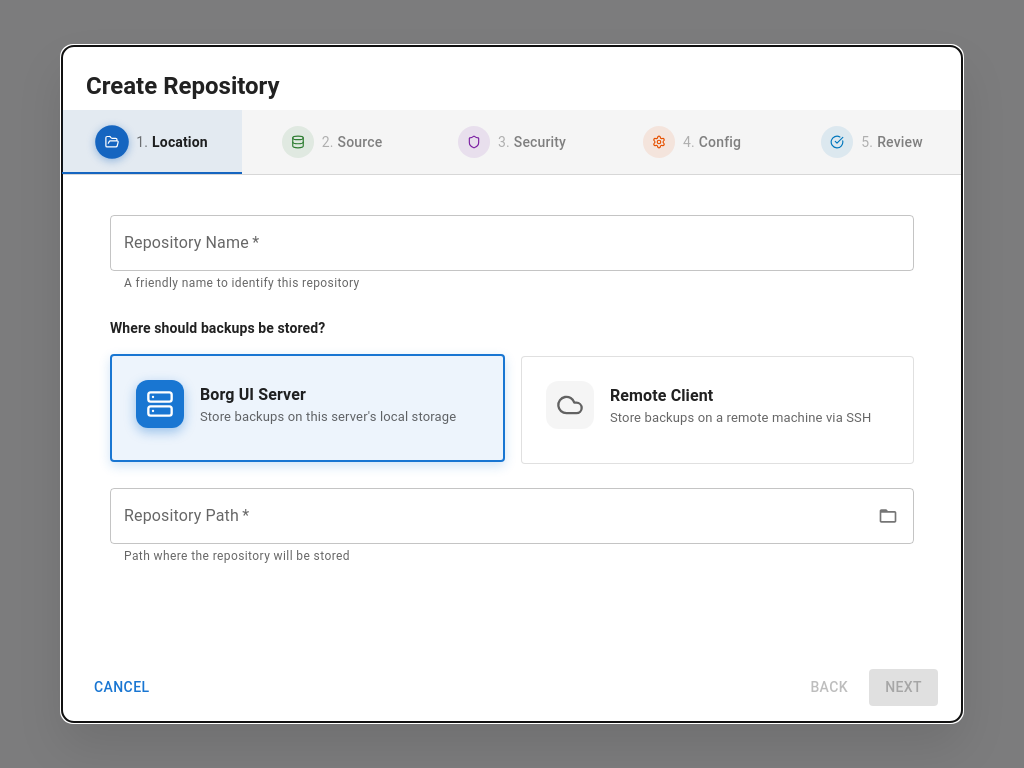
Scenario: RepositoryWizard › Create Mode › Step 1: Repository Location › clicking Remote Client changes path placeholder
expect the heading "Remote Client" is shown: met, box [610,386,713,405]
expect the field with placeholder "/backups/my-repo" is shown: met, box [110,488,865,544]
Click the button "Remote Client".
click(718, 409)  # box [522,357,913,461]
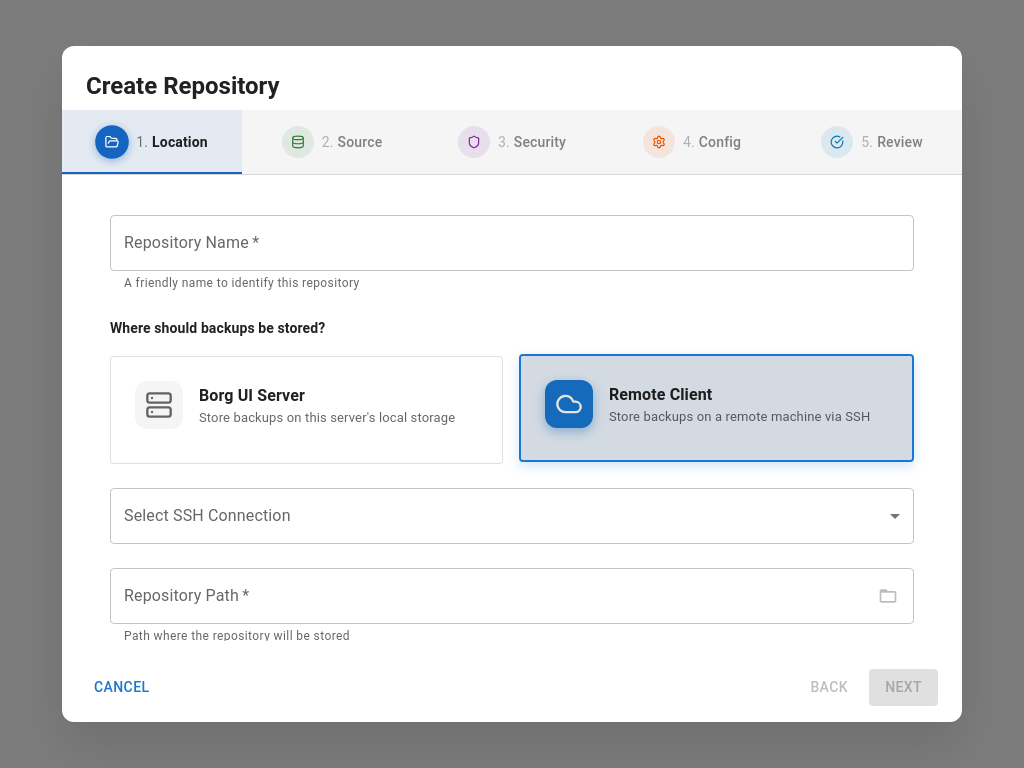
expect the field with placeholder "/path/on/remote/server" is shown: met, box [110,568,865,624]
